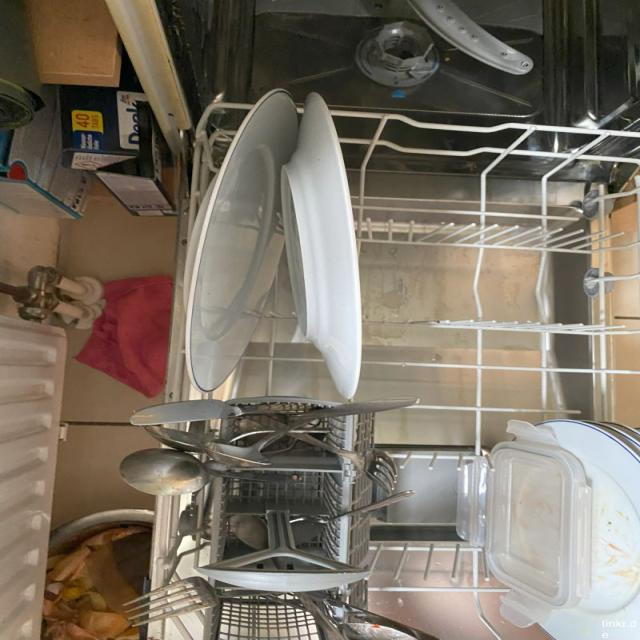clutery_bin: (145, 392, 363, 640)
empty_slot: (397, 132, 632, 411)
